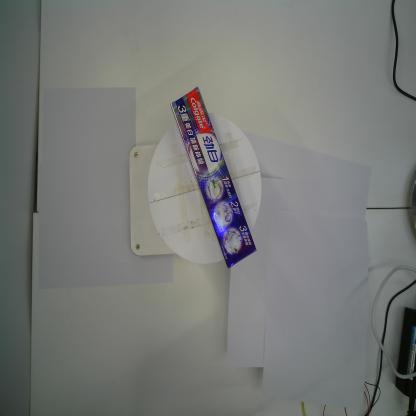Personal Hygiene: (170, 86, 257, 269)
